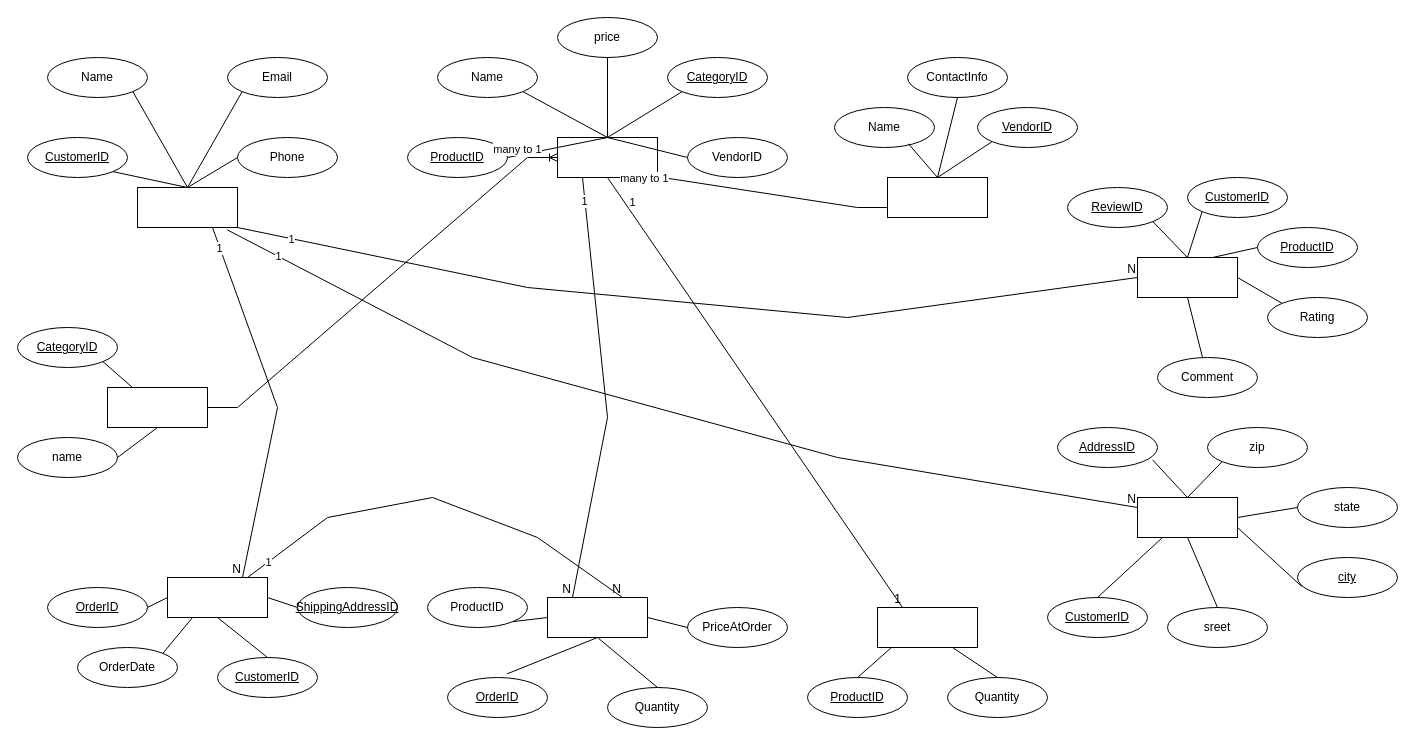
Image size: 1415x745. Some labels were removed from this diagram. Here are the shapes that lost their labels. From the top down, the box of each, then its label:
(556, 136, 658, 178): Product
(136, 186, 238, 228): customer
(886, 176, 988, 218): vendor
(1136, 256, 1238, 298): Review
(106, 386, 208, 428): category
(1136, 496, 1238, 538): ShippingAddress
(166, 576, 268, 618): Order
(546, 596, 648, 638): orderltem
(876, 606, 978, 648): Inventory
